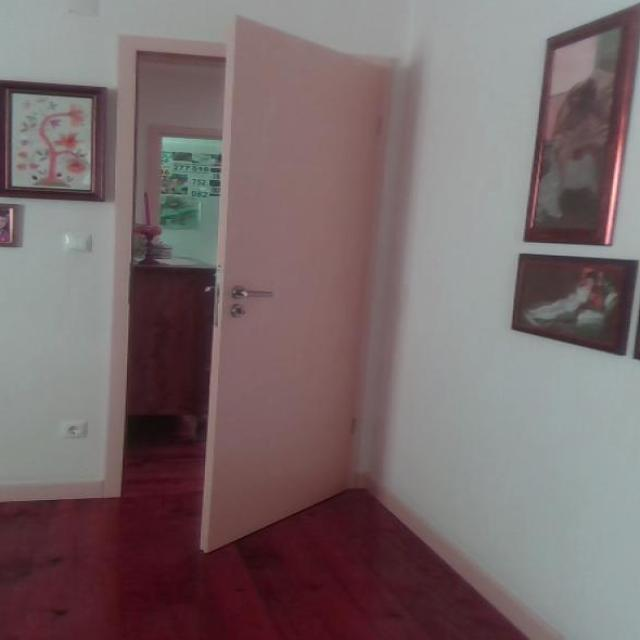door: (198, 13, 395, 553)
